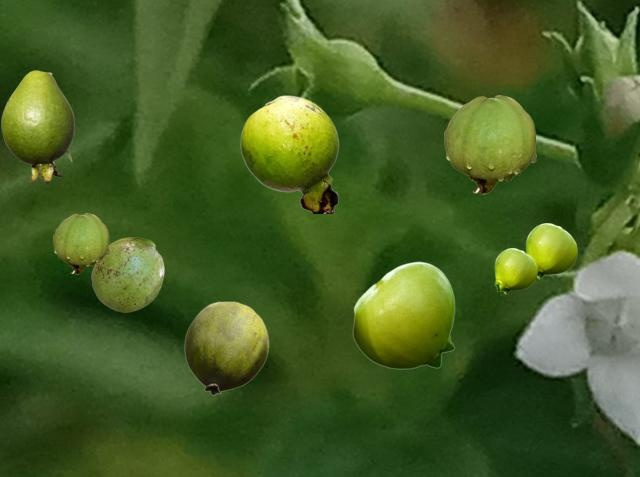guava: (240, 95, 338, 212), (352, 261, 454, 368), (444, 95, 535, 193), (1, 70, 73, 182), (184, 301, 268, 394), (91, 237, 163, 311), (53, 213, 108, 273), (525, 223, 576, 278), (494, 248, 536, 293)
